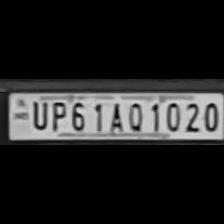0: (162, 100, 182, 132), (200, 100, 220, 132)
1: (89, 100, 107, 132), (144, 100, 162, 132)
2: (181, 99, 201, 133)
6: (67, 100, 87, 132)
A: (105, 99, 124, 131)
P: (47, 99, 66, 130)
Q: (124, 99, 144, 131)
U: (28, 98, 48, 130)
